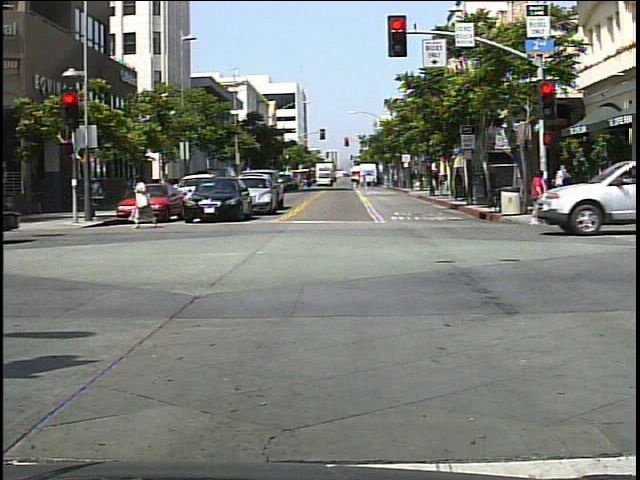person: (129, 170, 160, 234), (527, 168, 552, 213), (552, 161, 572, 198)
